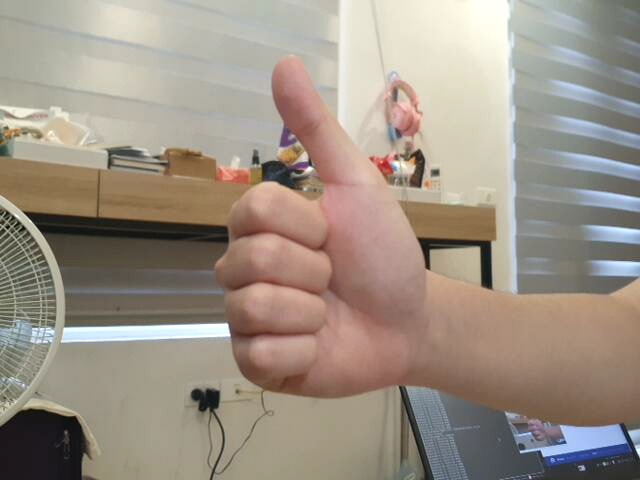ThumbsUp: (210, 53, 431, 403)
